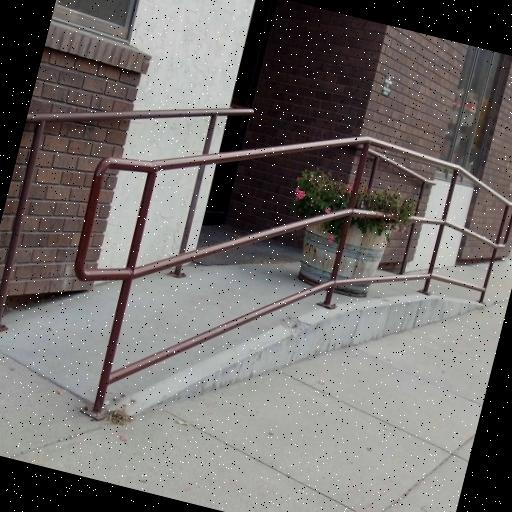ramp: (0, 215, 334, 456), (376, 262, 490, 317)
